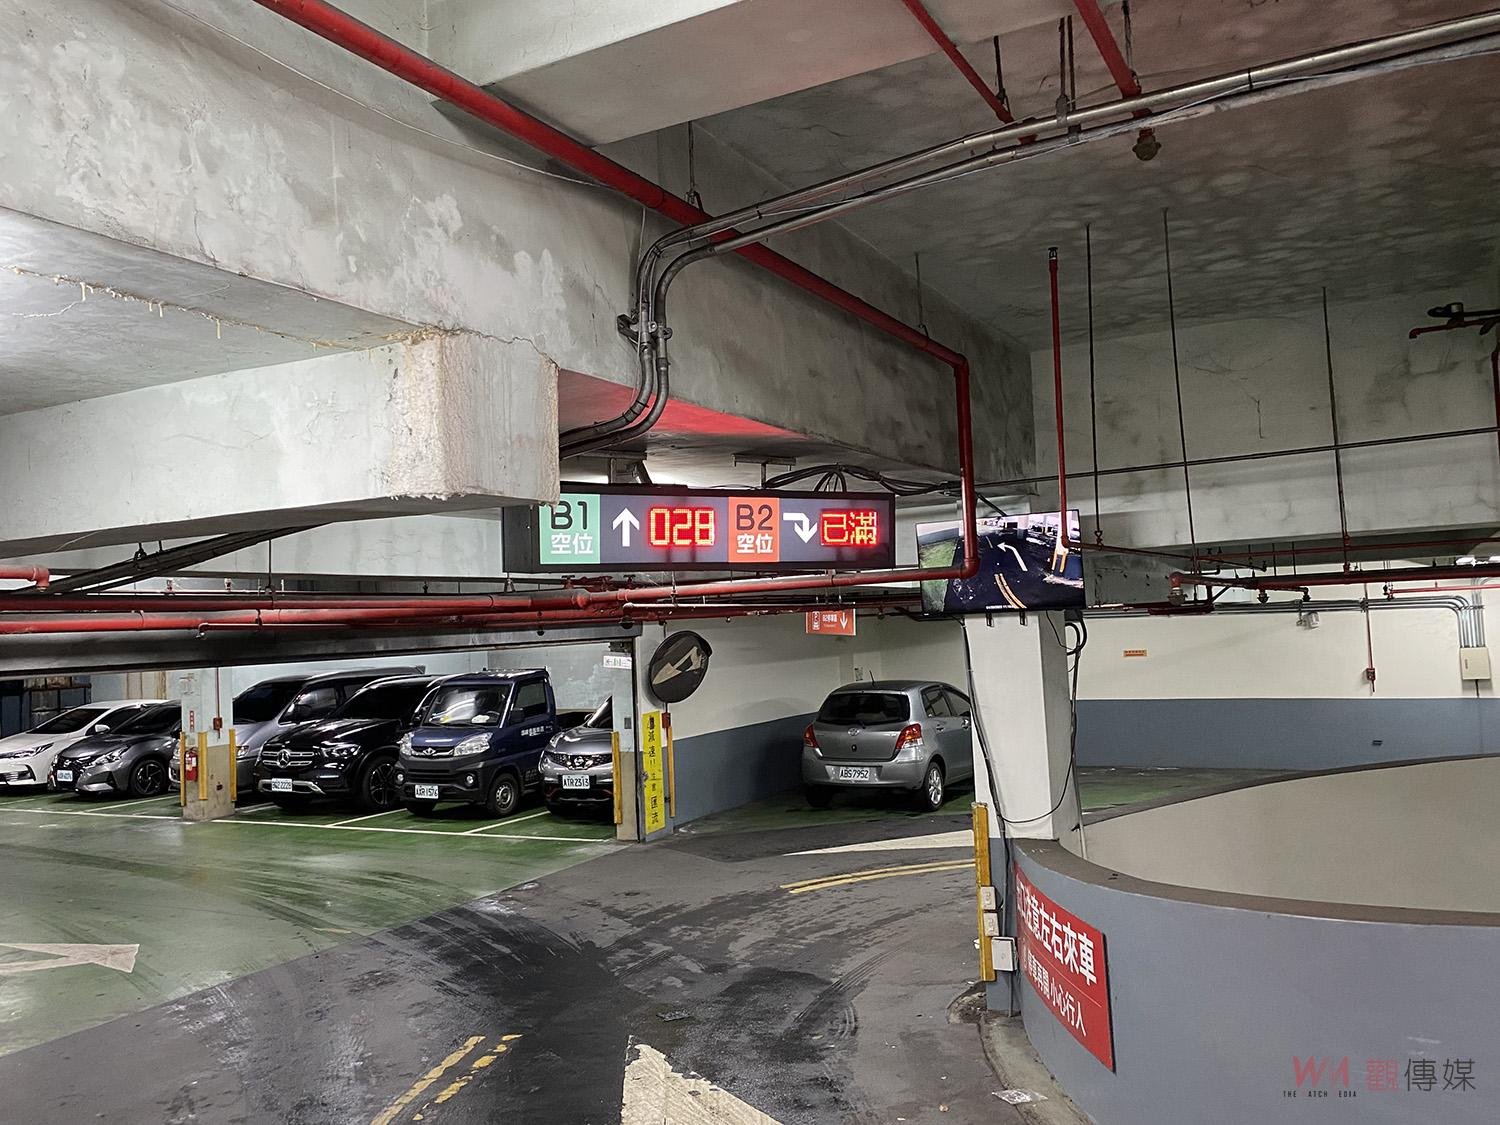car: (793, 653, 973, 825), (250, 685, 410, 817), (397, 671, 543, 809), (48, 708, 168, 804), (536, 692, 617, 828), (1, 715, 65, 791)
